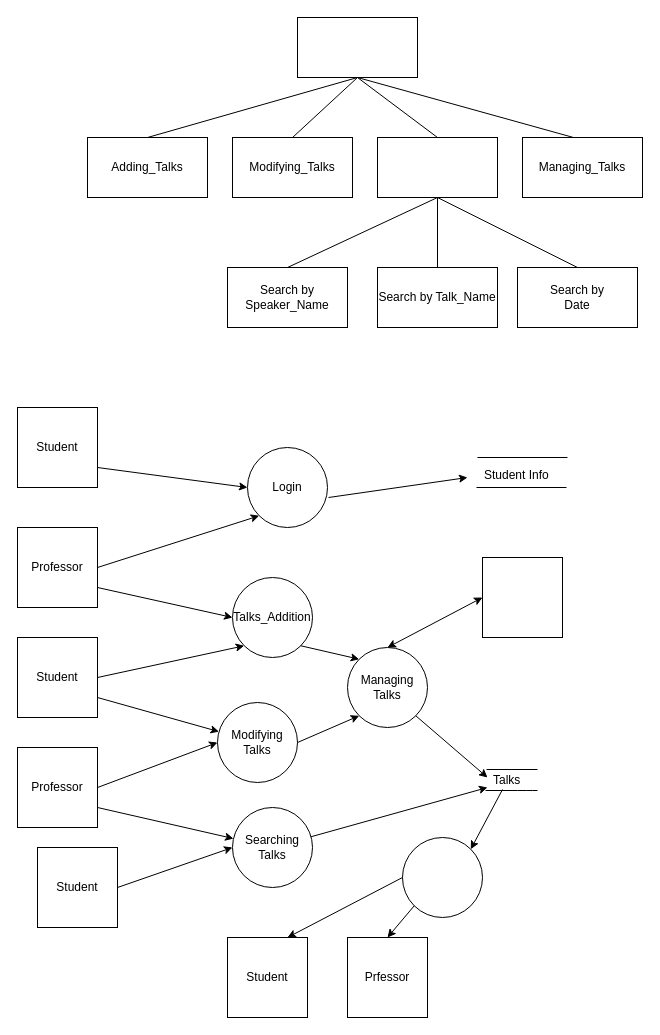
This 660x1035 diagram has some shape labels left out. The centre of each missing label's shape, as x and y in pixels:
"Admin" goes at point (522, 597).
"Giving_Info" goes at point (442, 877).
"Searching_Talks" goes at point (437, 167).
"Talks_Managing" goes at point (357, 47).
